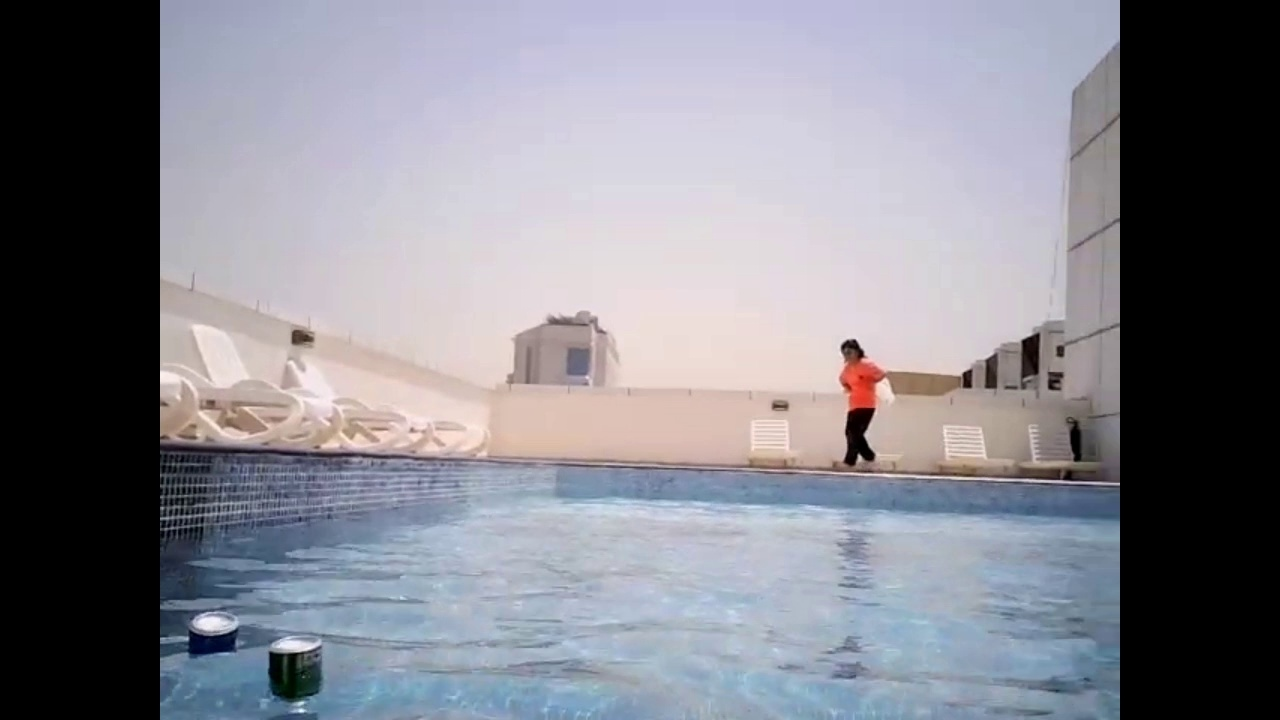debris: (258, 623, 326, 707), (184, 601, 245, 671)
